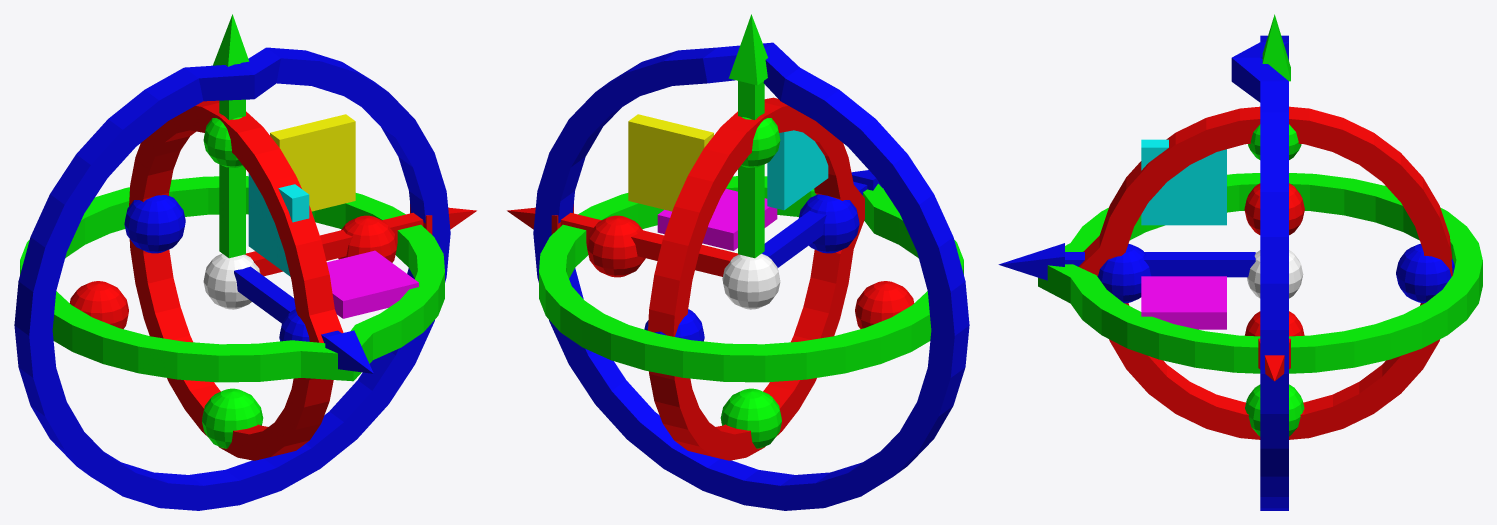
File: Gizmo.fbx
The picture shows the model from 3 angles, left to right: view 1: azimuth 30°, elevation 25°; view 2: azimuth 150°, elevation 25°; view 3: azimuth 270°, elevation 25°; orthographic projection. The views are drawn at different scales.
Parts seen in each view (by area): view 1: Roll, Yaw, Pitch, GizmoXY, GizmoXZ, GizmoY, GizmoZ, GizmoYZ, ScaleBack, ScaleDown, GizmoX, ScaleAll (+4 smaller); view 2: Roll, Yaw, Pitch, GizmoXY, GizmoY, GizmoYZ, ScaleRight, GizmoX, ScaleAll, ScaleDown, GizmoZ, ScaleFront (+4 smaller); view 3: Pitch, Yaw, Roll, GizmoYZ, GizmoXZ, GizmoZ, ScaleBack, ScaleFront, ScaleLeft, ScaleDown, GizmoY, ScaleAll (+3 smaller).
Part boxes in pixels (left/top/right/bottom): Roll: left=14, top=47, right=450, bottom=510; Yaw: left=20, top=176, right=444, bottom=382; Pitch: left=129, top=100, right=343, bottom=460; GizmoXY: left=270, top=114, right=355, bottom=211; GizmoXZ: left=327, top=250, right=418, bottom=318; GizmoY: left=213, top=14, right=249, bottom=258; GizmoZ: left=234, top=266, right=373, bottom=373; GizmoYZ: left=248, top=173, right=309, bottom=276; ScaleBack: left=124, top=195, right=185, bottom=253; ScaleDown: left=202, top=388, right=263, bottom=448; GizmoX: left=245, top=204, right=476, bottom=276; ScaleAll: left=203, top=253, right=260, bottom=309; Roll: left=533, top=42, right=969, bottom=510; Yaw: left=539, top=176, right=963, bottom=382; Pitch: left=648, top=97, right=864, bottom=460; GizmoXY: left=628, top=114, right=713, bottom=211; GizmoY: left=728, top=14, right=767, bottom=258; GizmoYZ: left=767, top=130, right=828, bottom=210; ScaleRight: left=586, top=215, right=645, bottom=277; GizmoX: left=507, top=204, right=738, bottom=276; ScaleAll: left=722, top=253, right=780, bottom=309; ScaleDown: left=720, top=388, right=781, bottom=448; GizmoZ: left=762, top=170, right=882, bottom=267; ScaleFront: left=798, top=194, right=859, bottom=253; Pitch: left=1078, top=106, right=1452, bottom=439; Yaw: left=1038, top=173, right=1482, bottom=373; Roll: left=1231, top=35, right=1288, bottom=510; GizmoYZ: left=1141, top=139, right=1226, bottom=225; GizmoXZ: left=1141, top=276, right=1226, bottom=329; GizmoZ: left=998, top=243, right=1255, bottom=280; ScaleBack: left=1396, top=243, right=1454, bottom=303; ScaleFront: left=1097, top=243, right=1151, bottom=303; ScaleLeft: left=1244, top=183, right=1304, bottom=235; ScaleDown: left=1245, top=384, right=1304, bottom=436; GizmoY: left=1262, top=14, right=1290, bottom=81; ScaleAll: left=1247, top=250, right=1303, bottom=298.
Size of the model in its own units: 539 by 549 by 508.
